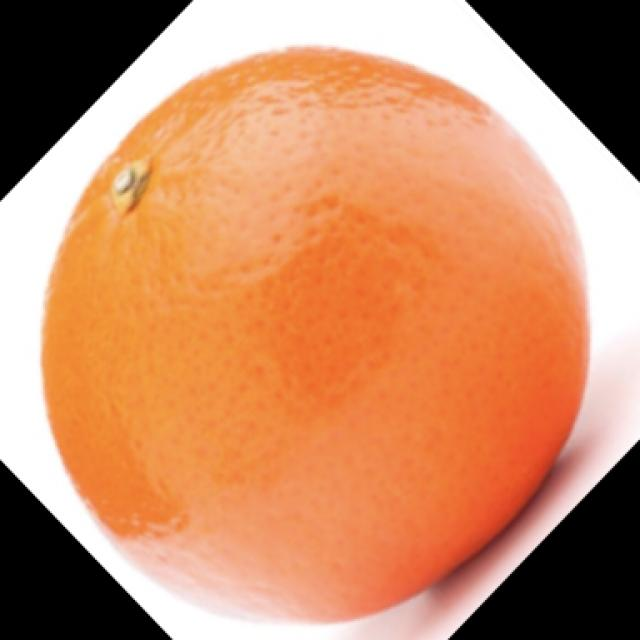fresh: (37, 39, 598, 627)
